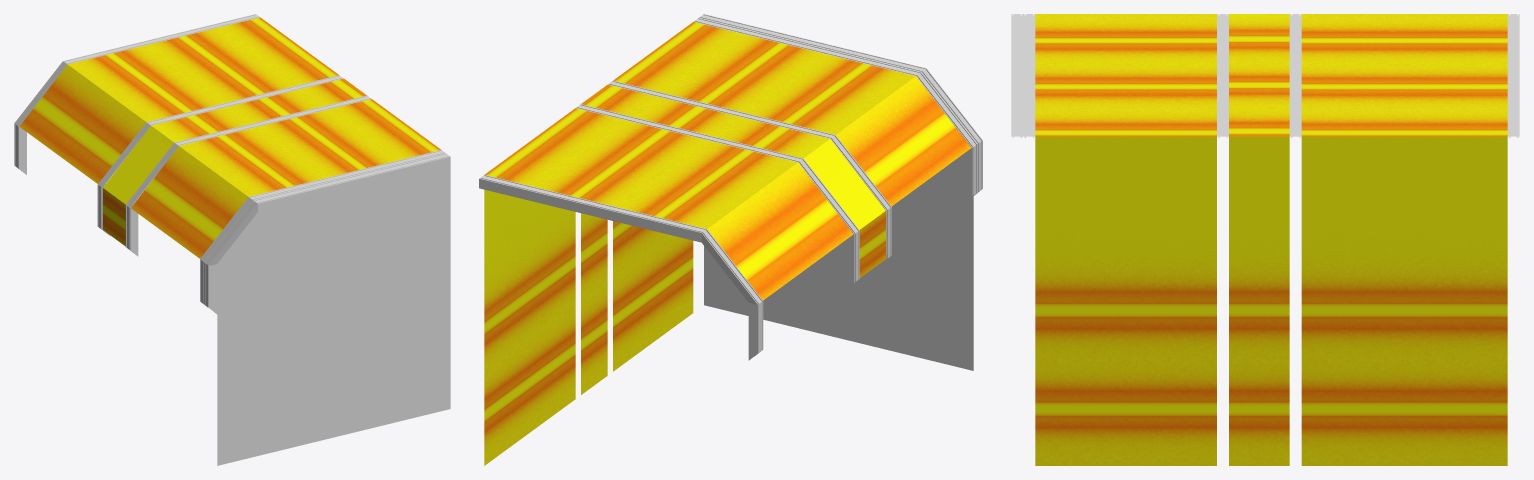
The picture shows the model from 3 angles, left to right: view 1: azimuth 30°, elevation 25°; view 2: azimuth 150°, elevation 25°; view 3: azimuth 270°, elevation 25°; orthographic projection. The views are drawn at different scales.
Visible parts, largest first — view 1: Cube.549; view 2: Cube.549; view 3: Cube.549.
Boxes of the visible parts, <box> form: Cube.549: <box>14,14,450,465</box>; Cube.549: <box>479,14,982,465</box>; Cube.549: <box>1011,14,1519,465</box>.
Bounding box in the file's own units: 1503 × 1500 × 2100.
